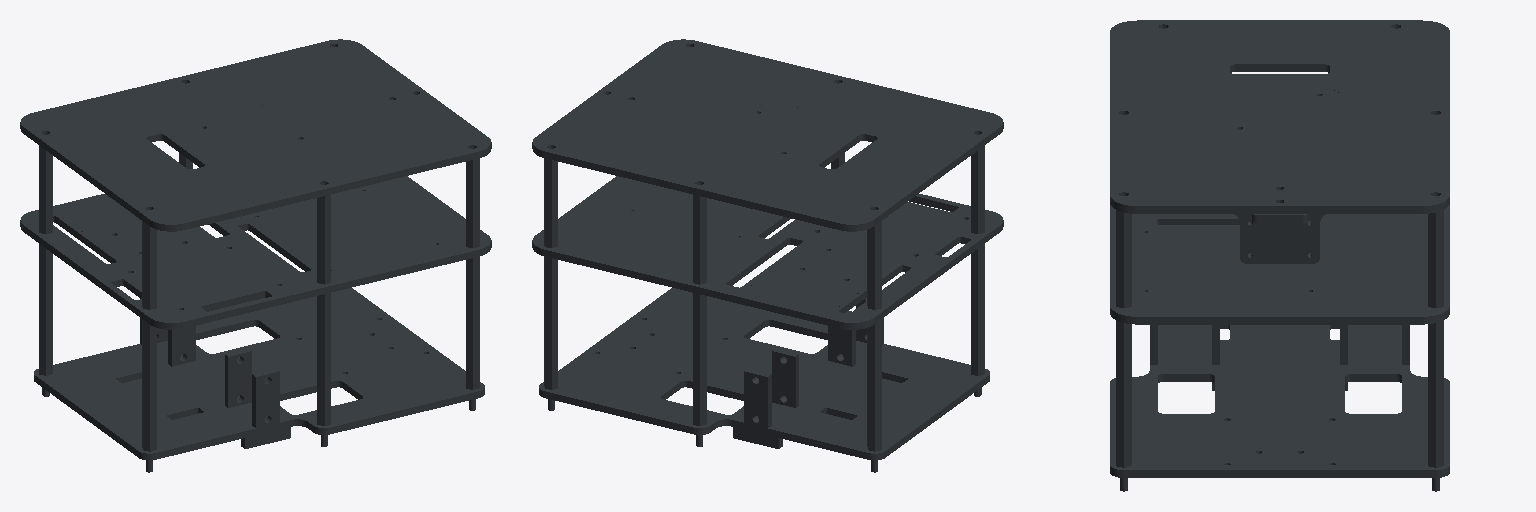
robot.urdf — fastbot:
<?xml version="1.0" ?>
<!-- Generated using onshape-to-robot -->
<!-- Onshape https://cad.onshape.com/documents/4757b8f98f7afcc7c3655639/w/684b05ef017e615d3bca90ce/e/15599f7046132dd76e692f13 -->
<robot name="fastbot">
  <!-- Link base_link -->
  <link name="base_link">
    <inertial>
      <origin xyz="-0.0554465 -0.0168128 0.0632551" rpy="0 0 0"/>
      <mass value="0.246919"/>
      <inertia ixx="0.000732026" ixy="8.62449e-08" ixz="-1.16621e-05" iyy="0.00094594" iyz="-1.42962e-08" izz="0.00081673"/>
    </inertial>
    <!-- Part base_link -->
    <visual>
      <origin xyz="0.015056 0.0431711 0.00134516" rpy="0 -0 -1.5708"/>
      <geometry>
        <mesh filename="package://fastbot_description/onshape/assets/base_link.stl"/>
      </geometry>
      <material name="base_link_material">
        <color rgba="0.262745 0.282353 0.301961 1"/>
      </material>
    </visual>
    <collision>
      <origin xyz="0.015056 0.0431711 0.00134516" rpy="0 -0 -1.5708"/>
      <geometry>
        <mesh filename="package://fastbot_description/onshape/assets/base_link.stl"/>
      </geometry>
    </collision>
  </link>
  <!-- Link fastbot_motor -->
  <link name="fastbot_motor">
    <inertial>
      <origin xyz="0.0067446 0.0085 -0.00855065" rpy="0 0 0"/>
      <mass value="0.0339689"/>
      <inertia ixx="2.5517e-06" ixy="-3.26147e-15" ixz="-9.70451e-07" iyy="1.80062e-05" iyz="-1.94099e-15" izz="1.80884e-05"/>
    </inertial>
    <!-- Part fastbot_motor -->
    <visual>
      <origin xyz="0.0935 -0.00775 -0.036" rpy="-1.5708 -1.5708 0"/>
      <geometry>
        <mesh filename="package://fastbot_description/onshape/assets/fastbot_motor.stl"/>
      </geometry>
      <material name="fastbot_motor_material">
        <color rgba="0.129412 0.129412 0.129412 1"/>
      </material>
    </visual>
    <collision>
      <origin xyz="0.0935 -0.00775 -0.036" rpy="-1.5708 -1.5708 0"/>
      <geometry>
        <mesh filename="package://fastbot_description/onshape/assets/fastbot_motor.stl"/>
      </geometry>
    </collision>
  </link>
  <!-- Link wheel_d65x25_v1 -->
  <link name="wheel_d65x25_v1">
    <inertial>
      <origin xyz="0 0 0" rpy="0 0 0"/>
      <mass value="1e-09"/>
      <inertia ixx="1e-09" ixy="0" ixz="0" iyy="1e-09" iyz="0" izz="1e-09"/>
    </inertial>
    <!-- Part tire_d65x25_v1 -->
    <visual>
      <origin xyz="0.1135 0.0162 0.103475" rpy="1.5708 1.5708 0"/>
      <geometry>
        <mesh filename="package://fastbot_description/onshape/assets/tire_d65x25_v1.stl"/>
      </geometry>
      <material name="tire_d65x25_v1_material">
        <color rgba="0.290196 0.290196 0.290196 1"/>
      </material>
    </visual>
    <collision>
      <origin xyz="0.1135 0.0162 0.103475" rpy="1.5708 1.5708 0"/>
      <geometry>
        <mesh filename="package://fastbot_description/onshape/assets/tire_d65x25_v1.stl"/>
      </geometry>
    </collision>
    <!-- Part wheel_d65x25_v1 -->
    <visual>
      <origin xyz="0.1135 0.0162 0.1039" rpy="1.5708 1.5708 0"/>
      <geometry>
        <mesh filename="package://fastbot_description/onshape/assets/wheel_d65x25_v1.stl"/>
      </geometry>
      <material name="wheel_d65x25_v1_material">
        <color rgba="1 0.933333 0.133333 1"/>
      </material>
    </visual>
    <collision>
      <origin xyz="0.1135 0.0162 0.1039" rpy="1.5708 1.5708 0"/>
      <geometry>
        <mesh filename="package://fastbot_description/onshape/assets/wheel_d65x25_v1.stl"/>
      </geometry>
    </collision>
  </link>
  <!-- Joint from fastbot_motor to wheel_d65x25_v1 -->
  <joint name="right_wheel" type="continuous">
    <origin xyz="-0.02 0.0085 -0.0191" rpy="1.90721e-16 7.20716e-17 -2.18046"/>
    <parent link="fastbot_motor"/>
    <child link="wheel_d65x25_v1"/>
    <axis xyz="0 0 1"/>
    <limit effort="10" velocity="10"/>
  </joint>
  <!-- Joint from base_link to fastbot_motor -->
  <joint name="right_motor" type="fixed">
    <origin xyz="-0.078444 -0.0408289 0.0260952" rpy="-1.5708 -2.94692e-47 2.498e-16"/>
    <parent link="base_link"/>
    <child link="fastbot_motor"/>
    <axis xyz="0 0 1"/>
    <limit effort="10" velocity="10"/>
  </joint>
  <!-- Link fastbot_motor_2 -->
  <link name="fastbot_motor_2">
    <inertial>
      <origin xyz="0.0067446 -0.0085 -0.00855065" rpy="0 0 0"/>
      <mass value="0.0339689"/>
      <inertia ixx="2.5517e-06" ixy="-3.26147e-15" ixz="-9.70451e-07" iyy="1.80062e-05" iyz="-1.94099e-15" izz="1.80884e-05"/>
    </inertial>
    <!-- Part fastbot_motor_2 -->
    <visual>
      <origin xyz="0.0935 -0.02475 -0.036" rpy="-1.5708 -1.5708 0"/>
      <geometry>
        <mesh filename="package://fastbot_description/onshape/assets/fastbot_motor.stl"/>
      </geometry>
      <material name="fastbot_motor_2_material">
        <color rgba="0.129412 0.129412 0.129412 1"/>
      </material>
    </visual>
    <collision>
      <origin xyz="0.0935 -0.02475 -0.036" rpy="-1.5708 -1.5708 0"/>
      <geometry>
        <mesh filename="package://fastbot_description/onshape/assets/fastbot_motor.stl"/>
      </geometry>
    </collision>
  </link>
  <!-- Link wheel_d65x25_v1_2 -->
  <link name="wheel_d65x25_v1_2">
    <inertial>
      <origin xyz="0 0 0" rpy="0 0 0"/>
      <mass value="1e-09"/>
      <inertia ixx="1e-09" ixy="0" ixz="0" iyy="1e-09" iyz="0" izz="1e-09"/>
    </inertial>
    <!-- Part wheel_d65x25_v1_2 -->
    <visual>
      <origin xyz="0.1135 0.0162 0.1039" rpy="1.5708 1.5708 0"/>
      <geometry>
        <mesh filename="package://fastbot_description/onshape/assets/wheel_d65x25_v1.stl"/>
      </geometry>
      <material name="wheel_d65x25_v1_2_material">
        <color rgba="1 0.933333 0.133333 1"/>
      </material>
    </visual>
    <collision>
      <origin xyz="0.1135 0.0162 0.1039" rpy="1.5708 1.5708 0"/>
      <geometry>
        <mesh filename="package://fastbot_description/onshape/assets/wheel_d65x25_v1.stl"/>
      </geometry>
    </collision>
    <!-- Part tire_d65x25_v1_2 -->
    <visual>
      <origin xyz="0.1135 0.0162 0.104325" rpy="1.5708 1.5708 0"/>
      <geometry>
        <mesh filename="package://fastbot_description/onshape/assets/tire_d65x25_v1.stl"/>
      </geometry>
      <material name="tire_d65x25_v1_2_material">
        <color rgba="0.290196 0.290196 0.290196 1"/>
      </material>
    </visual>
    <collision>
      <origin xyz="0.1135 0.0162 0.104325" rpy="1.5708 1.5708 0"/>
      <geometry>
        <mesh filename="package://fastbot_description/onshape/assets/tire_d65x25_v1.stl"/>
      </geometry>
    </collision>
  </link>
  <!-- Joint from fastbot_motor_2 to wheel_d65x25_v1_2 -->
  <joint name="left_wheel" type="continuous">
    <origin xyz="-0.02 -0.0085 -0.0191" rpy="-1.09224e-15 -7.57006e-16 -1.22177"/>
    <parent link="fastbot_motor_2"/>
    <child link="wheel_d65x25_v1_2"/>
    <axis xyz="0 0 1"/>
    <limit effort="10" velocity="10"/>
  </joint>
  <!-- Joint from base_link to fastbot_motor_2 -->
  <joint name="left_motor" type="fixed">
    <origin xyz="-0.078444 0.00717107 0.0260952" rpy="1.5708 -2.96391e-30 2.56739e-16"/>
    <parent link="base_link"/>
    <child link="fastbot_motor_2"/>
    <axis xyz="0 0 1"/>
    <limit effort="10" velocity="10"/>
  </joint>
  <!-- Link pololu_ball_caster -->
  <link name="pololu_ball_caster">
    <inertial>
      <origin xyz="0 0 0" rpy="0 0 0"/>
      <mass value="1e-09"/>
      <inertia ixx="1e-09" ixy="0" ixz="0" iyy="1e-09" iyz="0" izz="1e-09"/>
    </inertial>
    <!-- Part pololu_ball_caster -->
    <visual>
      <origin xyz="0.006731 0 -0.0106945" rpy="-1.5708 -0 -2.46519e-32"/>
      <geometry>
        <mesh filename="package://fastbot_description/onshape/assets/pololu_ball_caster.stl"/>
      </geometry>
      <material name="pololu_ball_caster_material">
        <color rgba="0.34902 0.376471 0.4 1"/>
      </material>
    </visual>
    <collision>
      <origin xyz="0.006731 0 -0.0106945" rpy="-1.5708 -0 -2.46519e-32"/>
      <geometry>
        <mesh filename="package://fastbot_description/onshape/assets/pololu_ball_caster.stl"/>
      </geometry>
    </collision>
  </link>
  <!-- Joint from base_link to pololu_ball_caster -->
  <joint name="caster" type="fixed">
    <origin xyz="5.59691e-05 -0.0241949 0.00334516" rpy="0 -0 1.5708"/>
    <parent link="base_link"/>
    <child link="pololu_ball_caster"/>
    <axis xyz="0 0 1"/>
    <limit effort="10" velocity="10"/>
  </joint>
  <!-- Link lslidar_n10 -->
  <link name="lslidar_n10">
    <inertial>
      <origin xyz="0 0 0" rpy="0 0 0"/>
      <mass value="1e-09"/>
      <inertia ixx="1e-09" ixy="0" ixz="0" iyy="1e-09" iyz="0" izz="1e-09"/>
    </inertial>
    <!-- Part lslidar_n10 -->
    <visual>
      <origin xyz="-0.06 0.074 -0.14585" rpy="3.79087e-17 -5.94511e-32 1.69482e-32"/>
      <geometry>
        <mesh filename="package://fastbot_description/onshape/assets/lslidar_n10.stl"/>
      </geometry>
      <material name="lslidar_n10_material">
        <color rgba="0.0980392 0.0980392 0.0980392 1"/>
      </material>
    </visual>
    <collision>
      <origin xyz="-0.06 0.074 -0.14585" rpy="3.79087e-17 -5.94511e-32 1.69482e-32"/>
      <geometry>
        <mesh filename="package://fastbot_description/onshape/assets/lslidar_n10.stl"/>
      </geometry>
    </collision>
  </link>
  <!-- Joint from base_link to lslidar_n10 -->
  <joint name="lidar" type="fixed">
    <origin xyz="-0.058944 -0.0168289 0.147435" rpy="-2.95369e-31 -1.74068e-33 -1.5708"/>
    <parent link="base_link"/>
    <child link="lslidar_n10"/>
    <axis xyz="0 0 1"/>
    <limit effort="10" velocity="10"/>
  </joint>
  <!-- Link raspicam -->
  <link name="raspicam">
    <inertial>
      <origin xyz="0 0 0" rpy="0 0 0"/>
      <mass value="1e-09"/>
      <inertia ixx="1e-09" ixy="0" ixz="0" iyy="1e-09" iyz="0" izz="1e-09"/>
    </inertial>
    <!-- Part raspicam -->
    <visual>
      <origin xyz="0 0 -0.0065" rpy="-9.59889e-44 1.01689e-30 -9.19602e-44"/>
      <geometry>
        <mesh filename="package://fastbot_description/onshape/assets/raspicam.stl"/>
      </geometry>
      <material name="raspicam_material">
        <color rgba="0.34902 0.376471 0.4 1"/>
      </material>
    </visual>
    <collision>
      <origin xyz="0 0 -0.0065" rpy="-9.59889e-44 1.01689e-30 -9.19602e-44"/>
      <geometry>
        <mesh filename="package://fastbot_description/onshape/assets/raspicam.stl"/>
      </geometry>
    </collision>
  </link>
  <!-- Joint from base_link to raspicam -->
  <joint name="camera" type="fixed">
    <origin xyz="0.021056 -0.0168289 0.088598" rpy="1.5708 8.88178e-16 1.5708"/>
    <parent link="base_link"/>
    <child link="raspicam"/>
    <axis xyz="0 0 1"/>
    <limit effort="10" velocity="10"/>
  </joint>
</robot>

--- Facts derived from the render (not from the file) ---
Views: 3 orthographic renders of the robot side by side, from view 1: azimuth 30°, elevation 25°; view 2: azimuth 150°, elevation 25°; view 3: azimuth 270°, elevation 25°.
Model fastbot with 8 links and 7 joints (2 continuous, 5 fixed), rooted at base_link, posed every joint at zero.
Visible links, largest first — view 1: base_link; view 2: base_link; view 3: base_link.
Link boxes in pixels (x1,y1,x2,y2): base_link: [20, 39, 491, 472]; base_link: [532, 39, 1003, 472]; base_link: [1110, 20, 1449, 491].
Size in the robot's own frame: 0.155 by 0.12 by 0.115 metres.
Meshes: 7 distinct files referenced, 1 mesh visuals loaded (1 binary STL); not drawn: 9 (reference not matched to a file when rendering).